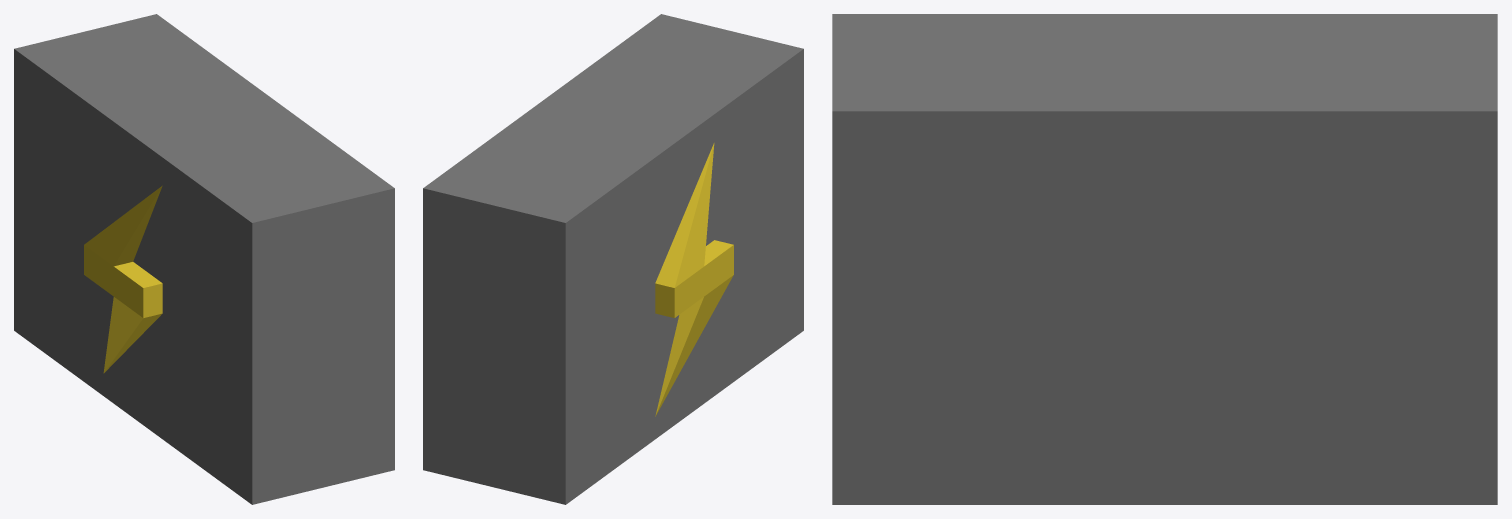
Rendered from electroshet1.fbx.
3 views of the same model, side by side, from view 1: azimuth 30°, elevation 25°; view 2: azimuth 150°, elevation 25°; view 3: azimuth 270°, elevation 25° (orthographic). The views are drawn at different scales.
Parts seen in each view (by area): view 1: Cube.004; view 2: Cube.004; view 3: Cube.001, Cube.004.
Part boxes in pixels (left/top/right/bottom): Cube.004: left=14, top=14, right=394, bottom=504; Cube.004: left=423, top=14, right=803, bottom=504; Cube.001: left=865, top=150, right=1464, bottom=504; Cube.004: left=832, top=14, right=1497, bottom=504.
Size of the model in its own units: 120 by 200 by 306.
